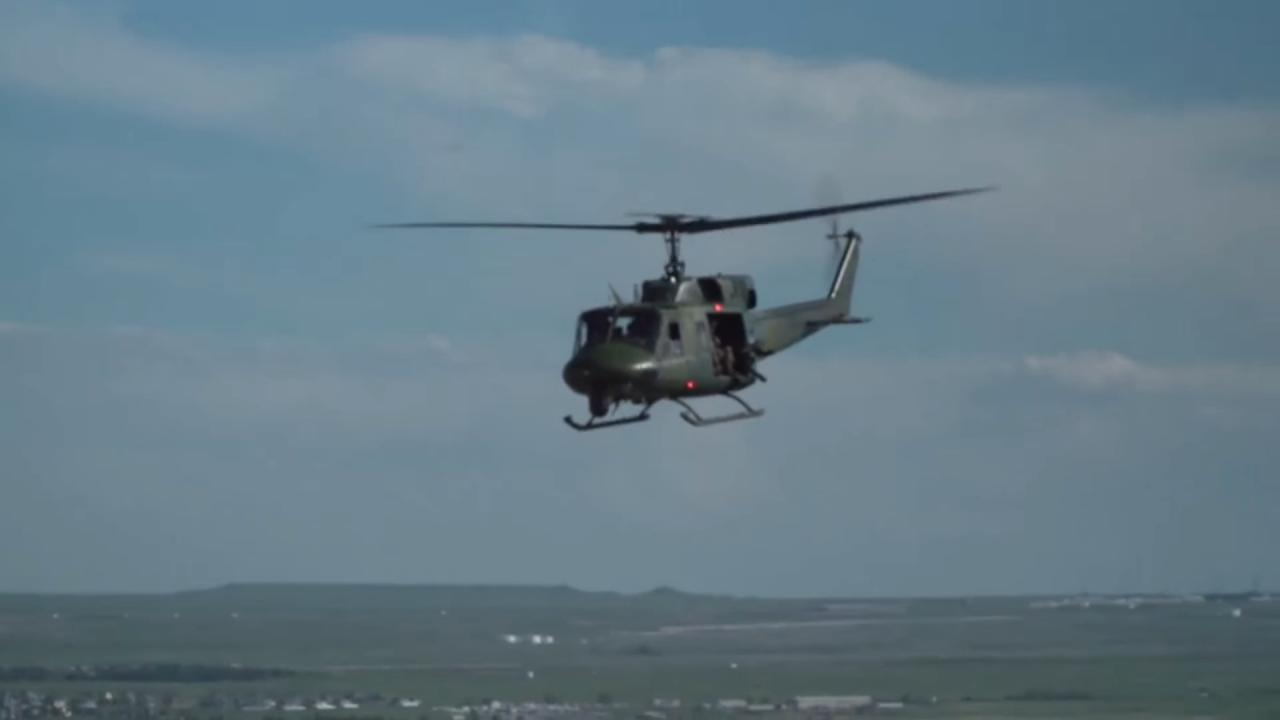Helicopter: (356, 147, 1005, 451)
